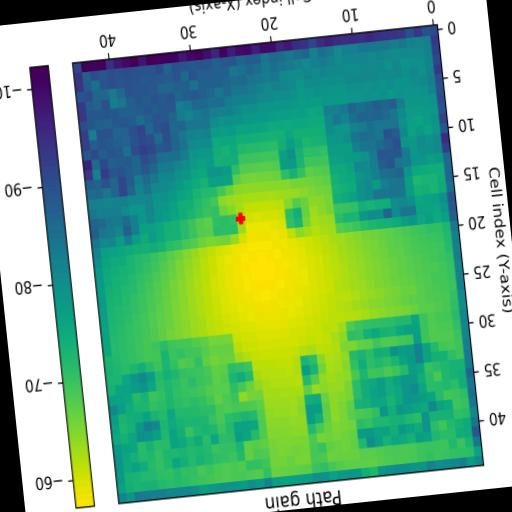Concrete: (158, 333, 244, 468)
Glass: (346, 314, 432, 449)
Metal: (128, 116, 220, 243)
Wood: (322, 96, 418, 234)
